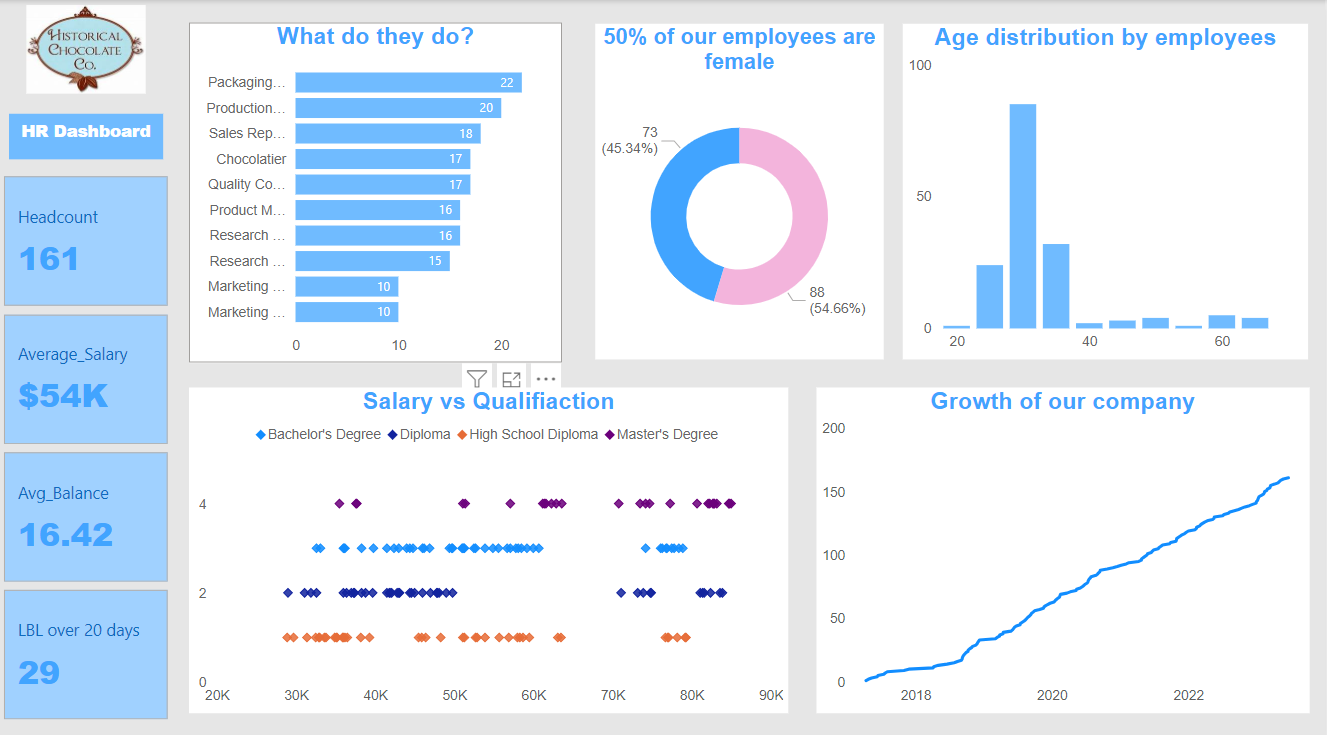

Layout of this report page (visuals, bound fields, positions):
{"tool":"powerbi","page":{"name":"HR_Data_Analysis","canvas":[1280,720],"ordinal":9},"visuals":[{"type":"cardVisual","fields":{"Data":["HR_Data.Headcount","HR_Data.Average_Salary","HR_Data.Avg_Balance","HR_Data.LBL over 20 days"]},"box":[0,165.7,168.6,535.7],"z":0},{"type":"clusteredBarChart","title":"What do they do?","fields":{"Category":["HR_Data.Job Title"],"Y":["HR_Data.Headcount"]},"box":[182.9,21.4,360,328.6],"z":1000},{"type":"donutChart","title":"50% of our employees are female","fields":{"Category":["HR_Data.Gender"],"Y":["HR_Data.Headcount"]},"box":[575.7,22.9,278.6,324.3],"z":2000},{"type":"columnChart","title":"Age distribution by employees","fields":{"Y":["HR_Data.Headcount"],"Category":["HR_Data.Age (bins)"]},"box":[872.9,22.9,391.4,324.3],"z":3000},{"type":"scatterChart","title":"Salary vs Qualifiaction","fields":{"X":["HR_Data.Salary"],"Y":["Education Qualification.Qualification_ID"],"Series":["HR_Data.Education Qualification"]},"box":[182.9,374.3,578.6,314.3],"z":4000},{"type":"lineChart","title":"Growth of our company","fields":{"Y":["HR_Data.Cumulative headcount"],"Category":["HR_Data.Date of Join"]},"box":[788.6,374.3,475.7,314.3],"z":5000},{"type":"textbox","box":[10,110,148.6,44.3],"z":6000},{"type":"image","box":[0,0,168.6,95.7],"z":7000}]}

Visuals, with their boxes in screenshot pixels (x1, y1, x2, y2), scaled from the page's 1280x720 canvas onto the 1327x735 screenshot:
cardVisual - HR_Data.Headcount x HR_Data.Average_Salary: 0/169/175/716
"What do they do?" clusteredBarChart: 190/22/563/357
"50% of our employees are female" donutChart: 597/23/886/354
"Age distribution by employees" columnChart: 905/23/1311/354
"Salary vs Qualifiaction" scatterChart: 190/382/789/703
"Growth of our company" lineChart: 818/382/1311/703
textbox: 10/112/164/158
image: 0/0/175/98
